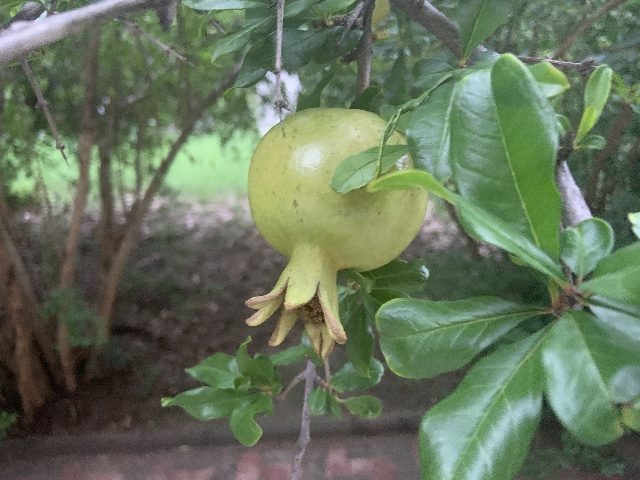mid-growth: (242, 105, 427, 359)
